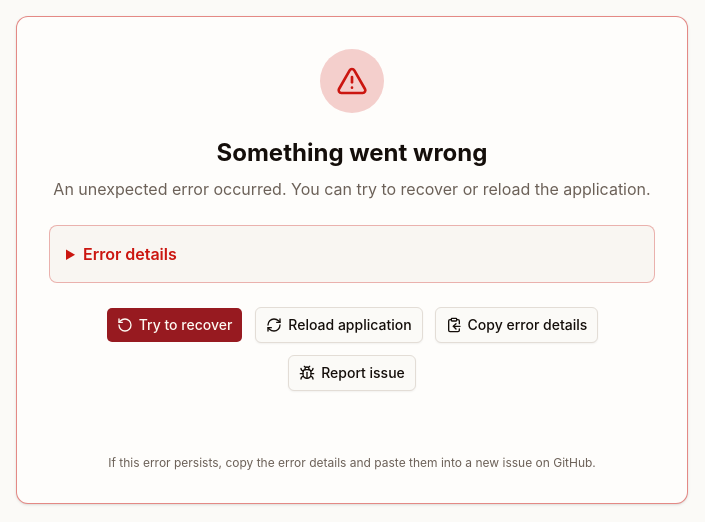
Test: When a component outside the router throws › If the user copies the error details, Then the component stack is included
Click the button "Copy error details": {"x": 516, "y": 325} [435,307,598,343]
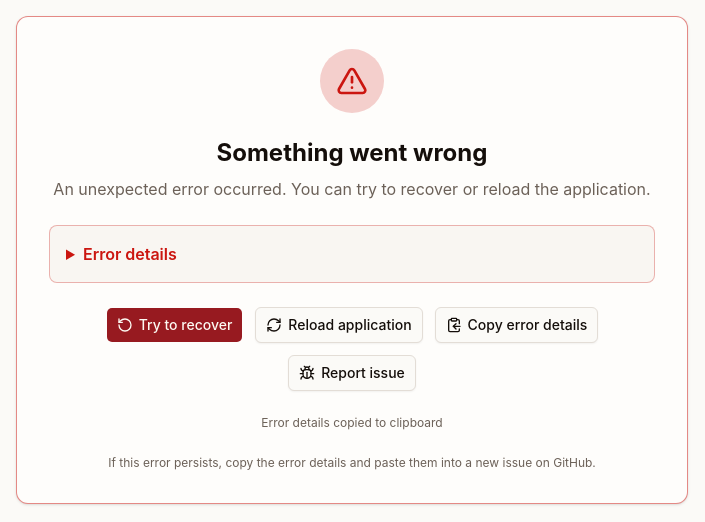
Now the text "Error details copied to clipboard" is shown, box [261,415,443,430]
